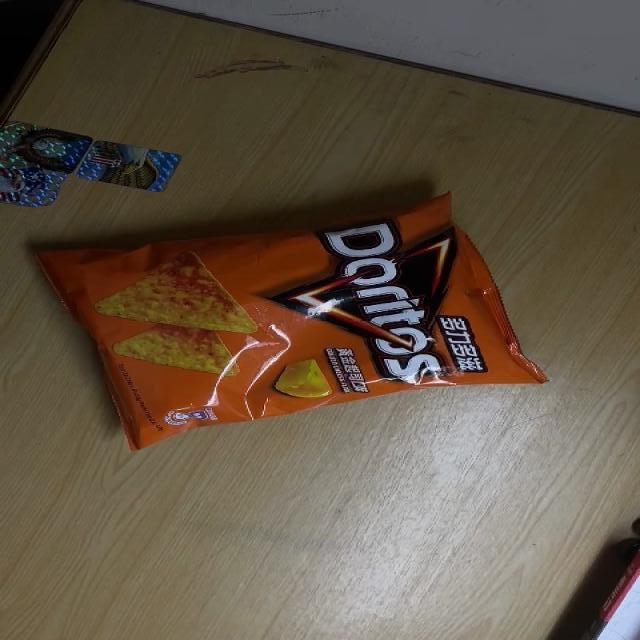Doritos: (25, 192, 551, 452)
